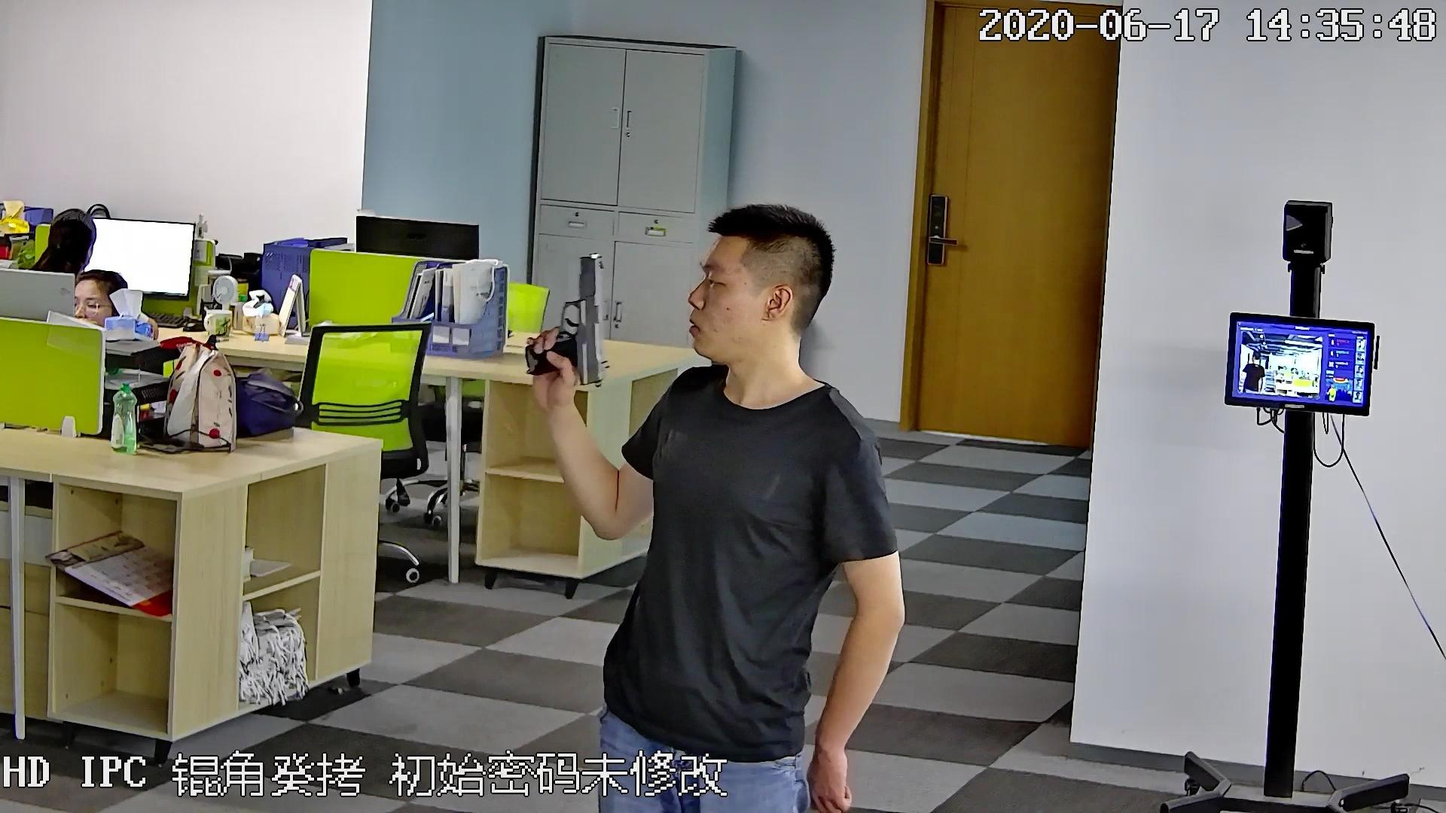gun: (523, 249, 613, 391)
